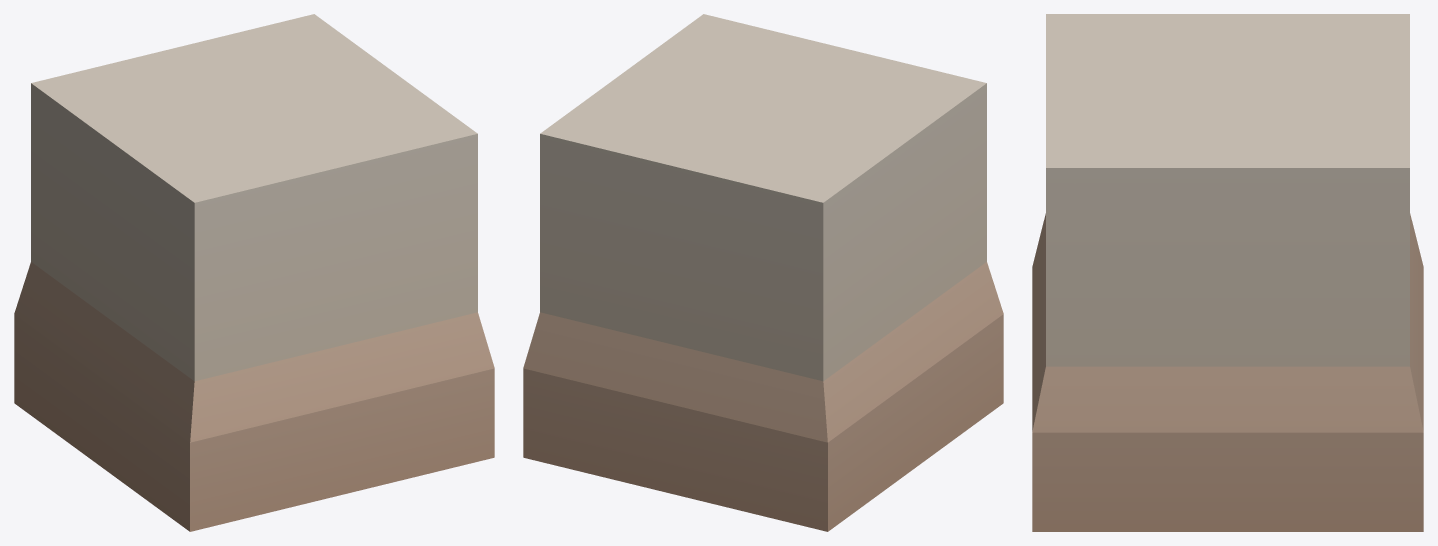
The model's file is tower-square-base.glb.
3 renders of one model, left to right at view 1: azimuth 30°, elevation 25°; view 2: azimuth 150°, elevation 25°; view 3: azimuth 270°, elevation 25°, orthographic. The views are drawn at different scales.
Parts seen in each view (by area): view 1: tower-square-base; view 2: tower-square-base; view 3: tower-square-base.
Part boxes in pixels (x1,y1,x2,y2): tower-square-base: (14, 14, 494, 531); tower-square-base: (523, 14, 1003, 531); tower-square-base: (1032, 14, 1423, 531).
Bounding box in the file's own units: 1 × 1.01 × 1.
